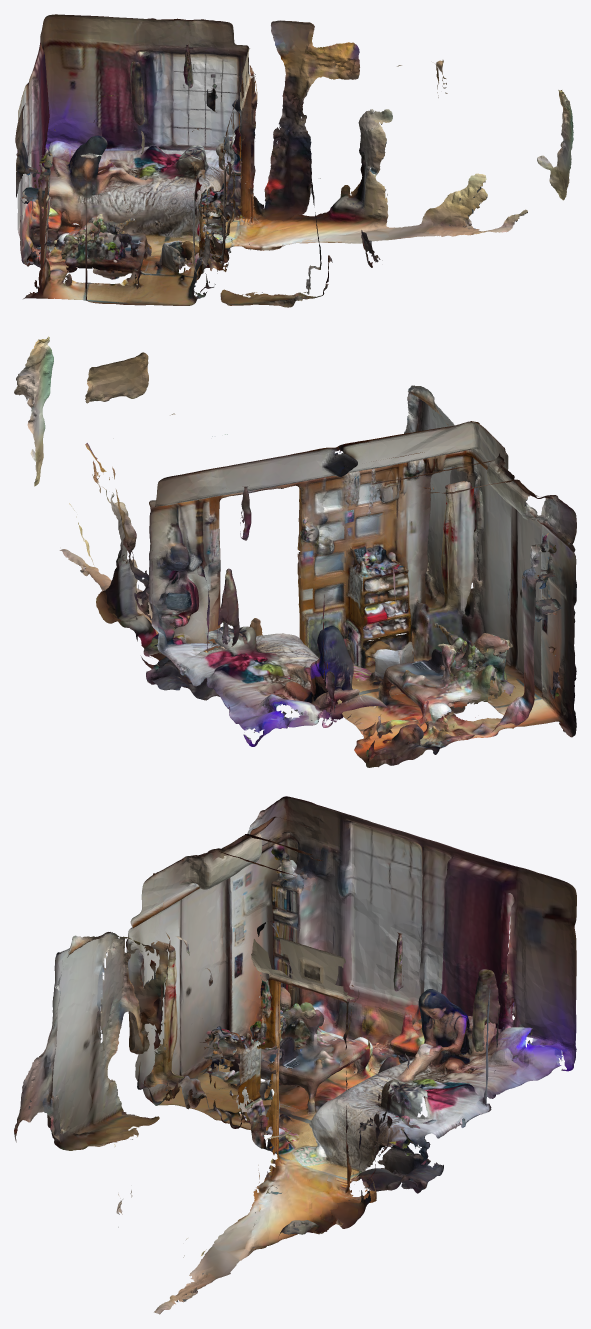
File: KAORI WEB.glb
The picture shows the model from 3 angles, top to bottom: view 1: azimuth 30°, elevation 25°; view 2: azimuth 150°, elevation 25°; view 3: azimuth 270°, elevation 25°; orthographic projection. The views are drawn at different scales.
Visible parts, largest first — view 1: mesh; view 2: mesh; view 3: mesh.
Boxes of the visible parts, x1=… form: mesh: x1=15, y1=14, x2=573, y2=307; mesh: x1=14, y1=336, x2=576, y2=767; mesh: x1=14, y1=796, x2=576, y2=1314.
Size of the model in its own units: 6.66 by 2.33 by 4.91.
Materials: 1 (1 with a texture image).
